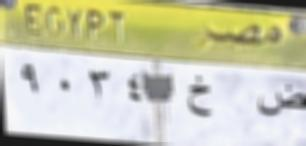0: (57, 72, 73, 98)
3: (89, 68, 112, 105)
4: (126, 75, 143, 104)
9: (19, 59, 45, 99)
daad: (254, 78, 305, 121)
khaa: (184, 72, 215, 126)
